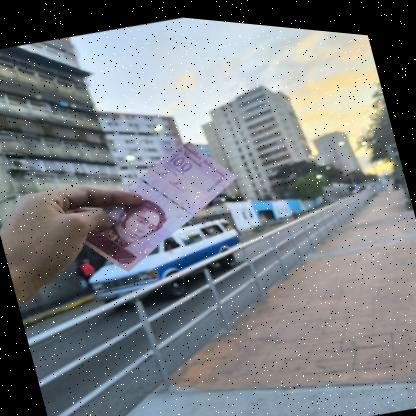one_hundred-front-vef: (60, 117, 256, 289)
